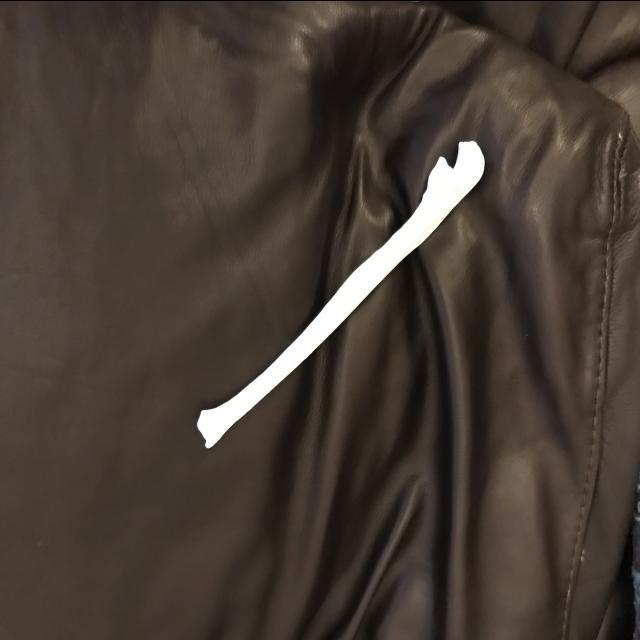bone: (189, 133, 491, 455)
